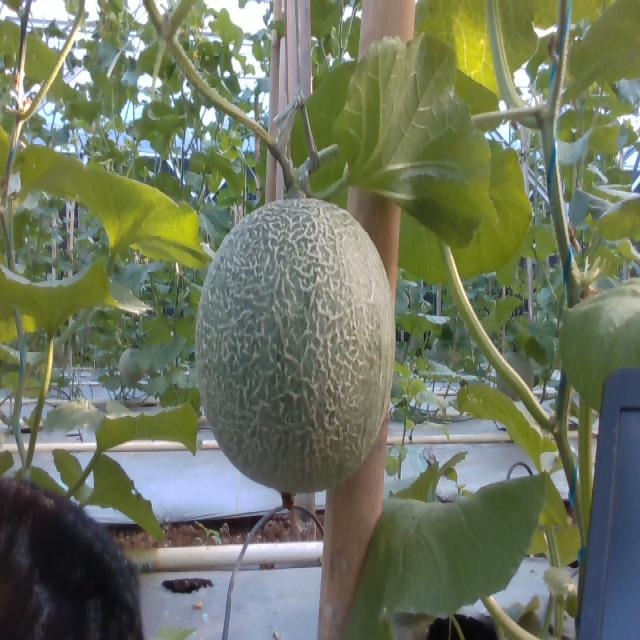melon: (196, 199, 395, 494)
